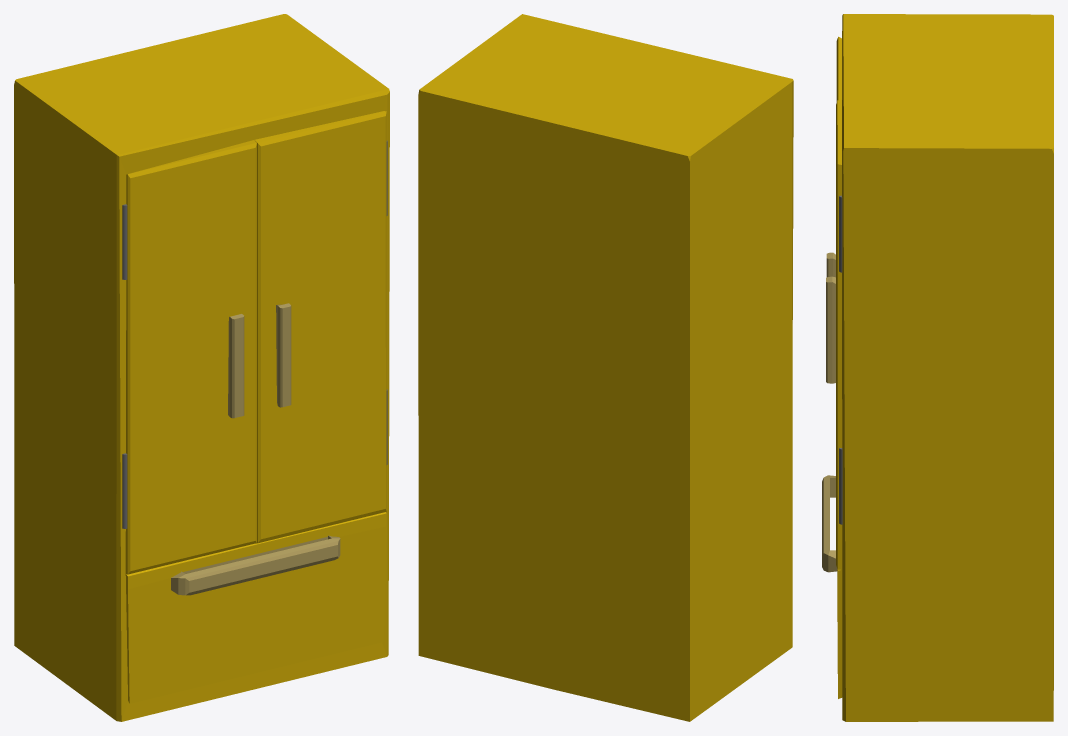
Rendered from LudumDareFridge 1.fbx.
The picture shows the model from 3 angles, left to right: view 1: azimuth 30°, elevation 25°; view 2: azimuth 150°, elevation 25°; view 3: azimuth 270°, elevation 25°; orthographic projection.
Parts seen in each view (by area): view 1: Fridge, Fridge.001, Fridge.002; view 2: Fridge; view 3: Fridge, Fridge.001, Fridge.002.
Boxes of the visible parts, x1,y1,x2,y2 form: Fridge: (14,14,389,721); Fridge.001: (171,303,340,595); Fridge.002: (122,140,387,528); Fridge: (418,14,793,721); Fridge: (836,14,1053,721); Fridge.001: (822,252,837,572); Fridge.002: (839,195,842,524).
Bounding box in the file's own units: 106 × 212 × 77.52.
